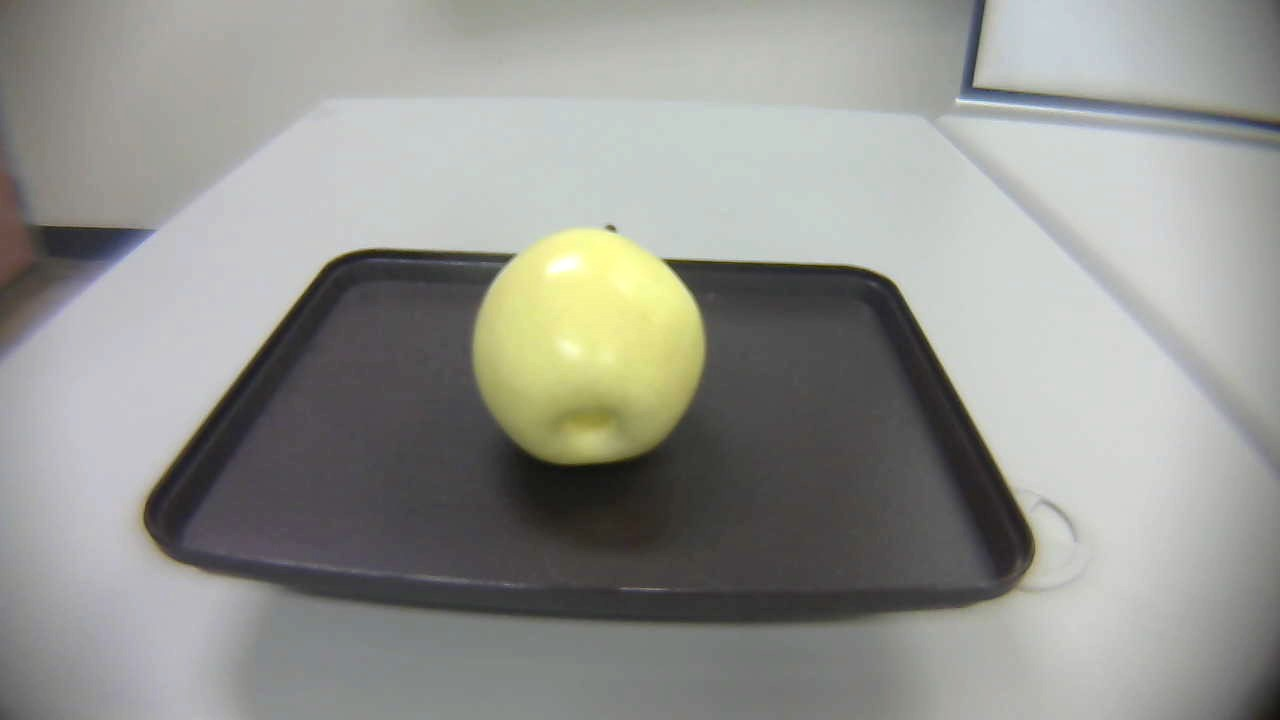western pear: (465, 209, 718, 469)
